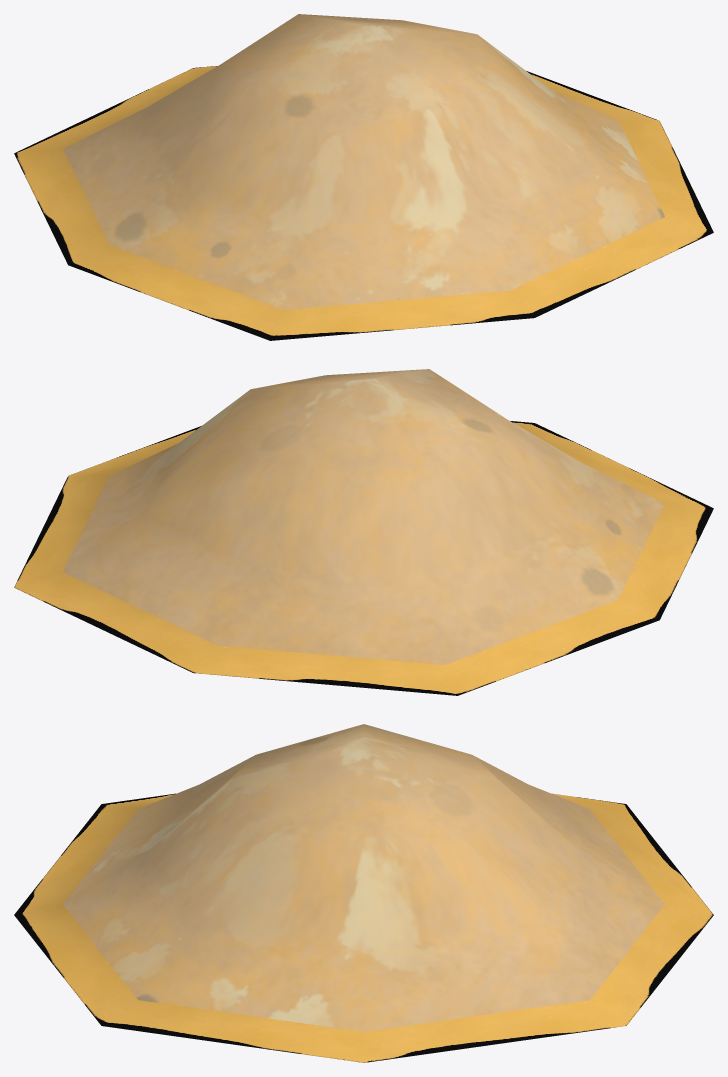
Rendered from sand pile.fbx.
3 renders of one model, top to bottom at view 1: azimuth 30°, elevation 25°; view 2: azimuth 150°, elevation 25°; view 3: azimuth 270°, elevation 25°, orthographic. The views are drawn at different scales.
Visible parts, largest first — view 1: pCube76; view 2: pCube76; view 3: pCube76.
Boxes of the visible parts, left/top/right/bottom form: pCube76: left=14, top=14, right=713, bottom=340; pCube76: left=14, top=369, right=713, bottom=695; pCube76: left=14, top=724, right=713, bottom=1062.
Bounding box in the file's own units: 1.72 × 0.4645 × 1.72.
